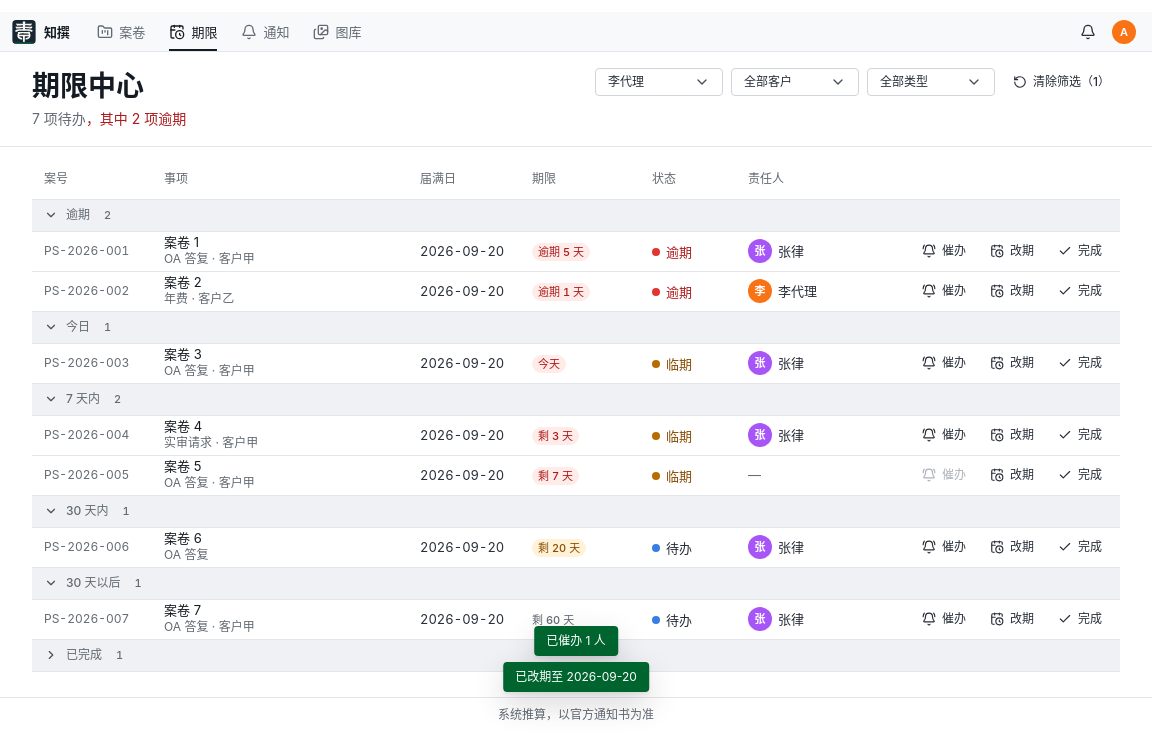
Scenario: DeadlinesPage 1440 › 筛选变更 ⇒ 重新请求接口（参数透传，后端筛选）；清除筛选复位
Click the button with test id "deadline-filter-clear".
click(1062, 82)  # box top-left (1003, 68), bottom-right (1120, 96)
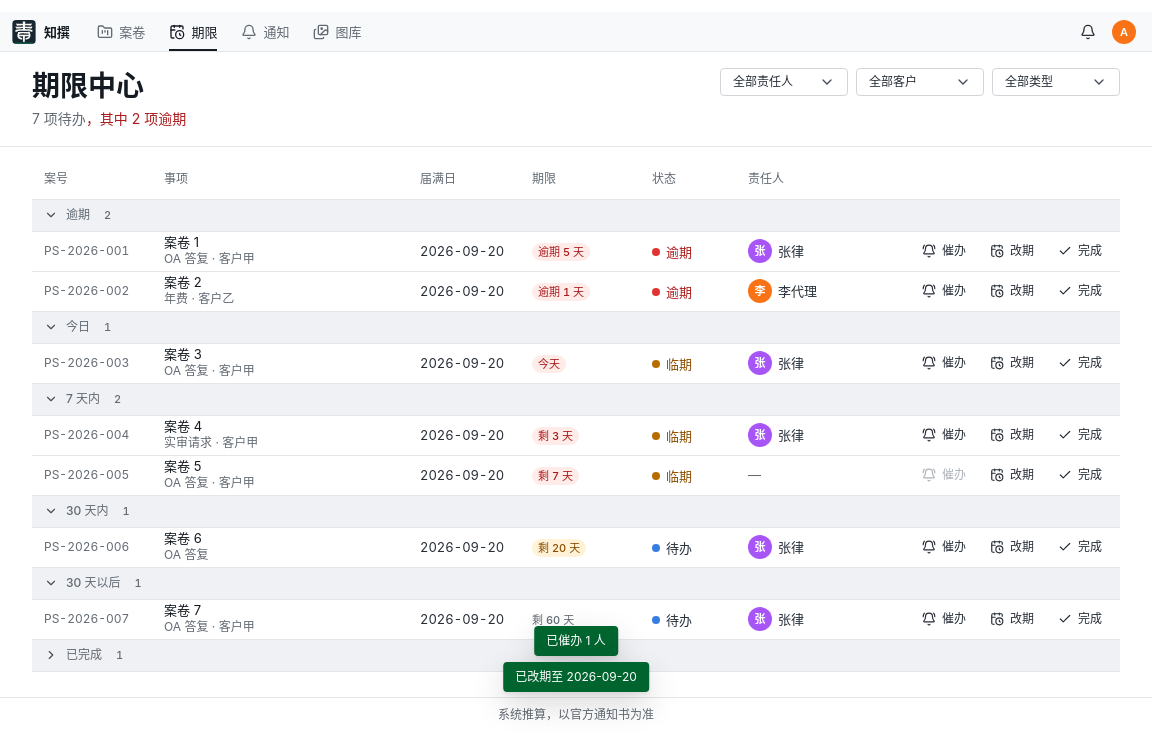
Check: the button with test id "deadline-filter-clear" is gone
